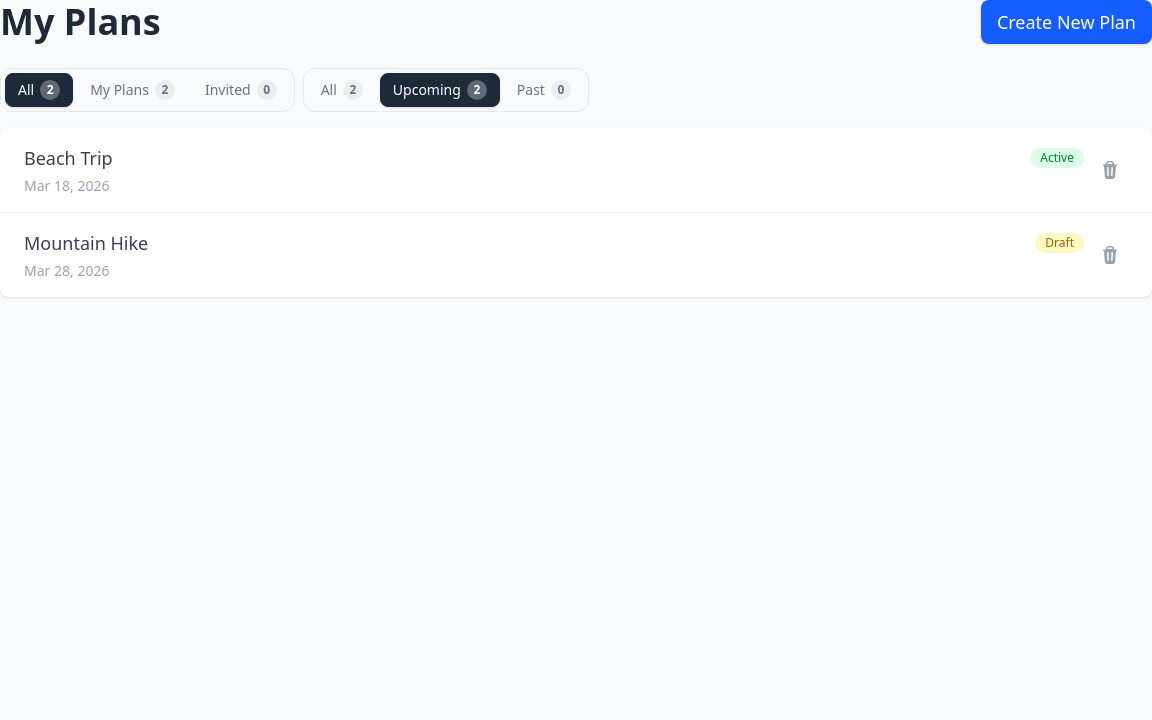
Test case: PlansList › admin delete › opens confirmation modal with plan title when delete button is clicked
Click the button with test id "admin-delete-plan-1": {"x": 1110, "y": 170} [1092,152,1128,188]
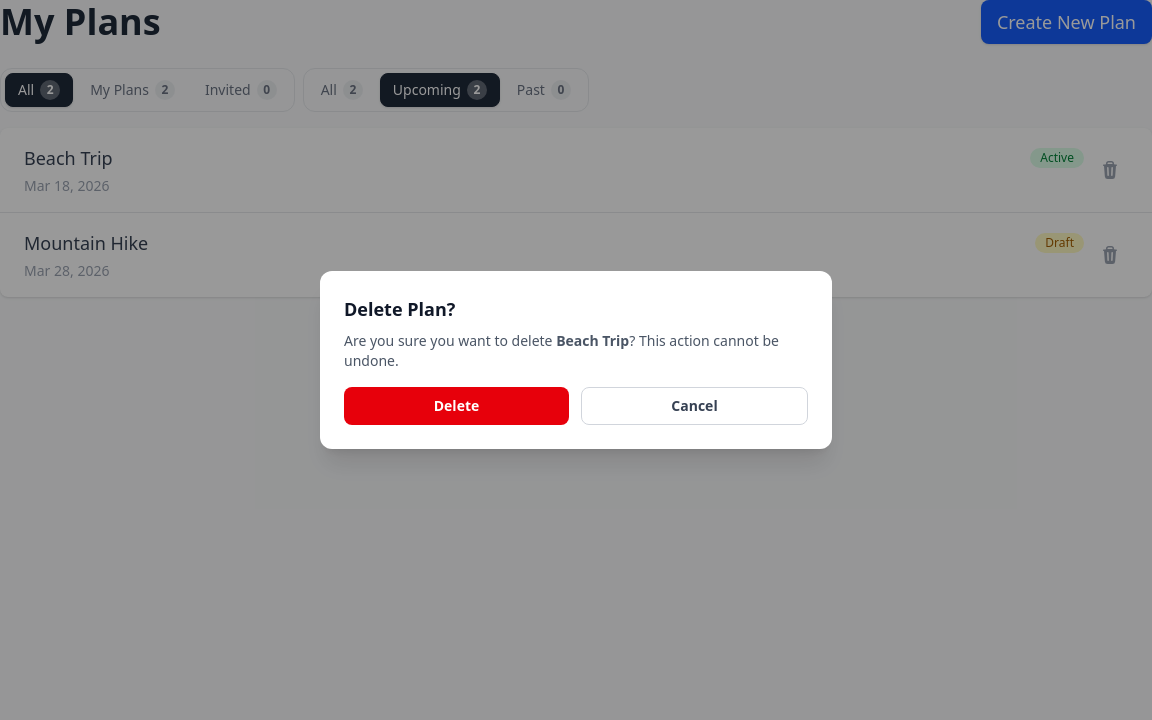
Expected: the heading "Delete Plan?" is shown, [344,295,455,323]
Expected: the button with test id "admin-delete-confirm" is shown, [344,387,569,425]
Expected: the button with test id "admin-delete-cancel" is shown, [581,387,808,425]
